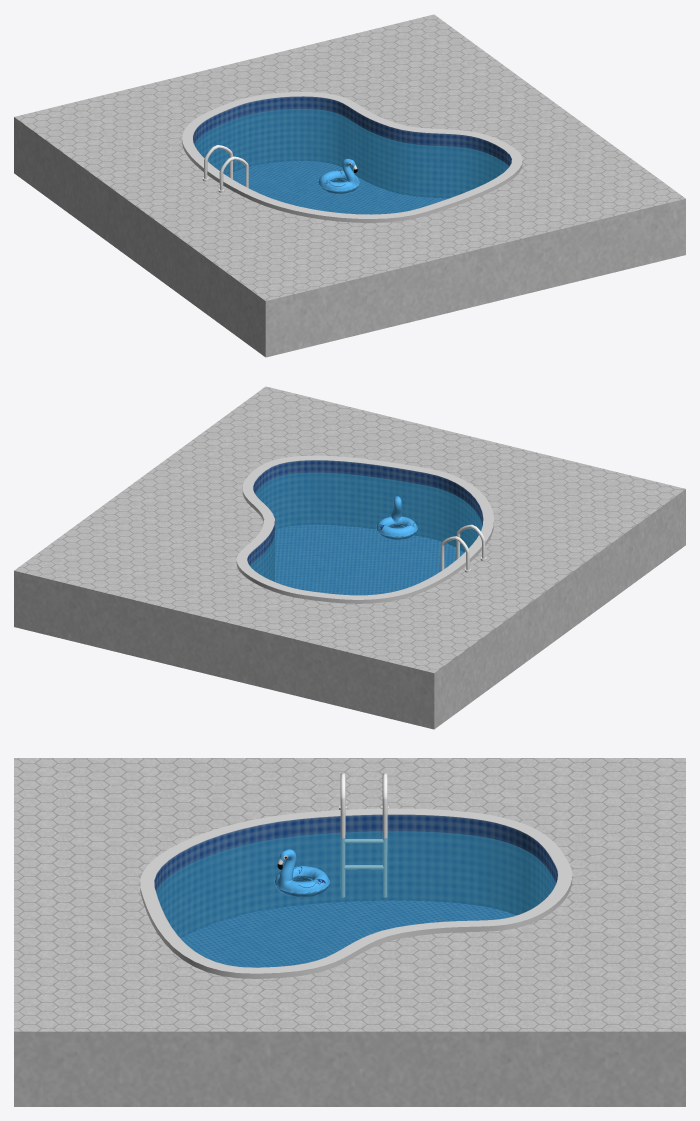
Rendered from 1779254081625-water_pool.glb.
The picture shows the model from 3 angles, top to bottom: view 1: azimuth 30°, elevation 25°; view 2: azimuth 150°, elevation 25°; view 3: azimuth 270°, elevation 25°; orthographic projection. The views are drawn at different scales.
Parts seen in each view (by area): view 1: Plane, BezierCurve, BezierCurve.001, Torus.040, Circle; view 2: Plane, BezierCurve, BezierCurve.001, Torus.040, Circle; view 3: Plane, BezierCurve, BezierCurve.001, Circle, Torus.040.
Part boxes in pixels (x1,y1,x2,y2): Plane: [14, 14, 685, 357]; BezierCurve: [182, 92, 522, 222]; BezierCurve.001: [194, 109, 508, 214]; Torus.040: [318, 158, 359, 193]; Circle: [202, 145, 248, 192]; Plane: [14, 386, 685, 729]; BezierCurve: [236, 455, 493, 603]; BezierCurve.001: [250, 472, 482, 595]; Torus.040: [376, 496, 417, 539]; Circle: [440, 524, 486, 572]; Plane: [14, 758, 685, 1106]; BezierCurve: [140, 808, 572, 978]; BezierCurve.001: [156, 831, 555, 967]; Circle: [339, 772, 388, 897]; Torus.040: [274, 849, 329, 896].
Bounding box in the file's own units: 25.1 × 5.29 × 26.04.
2 materials, 2 textured.
